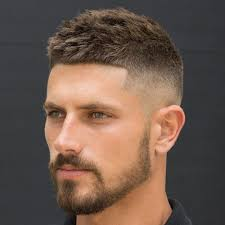white_male: (39, 51, 150, 199)
